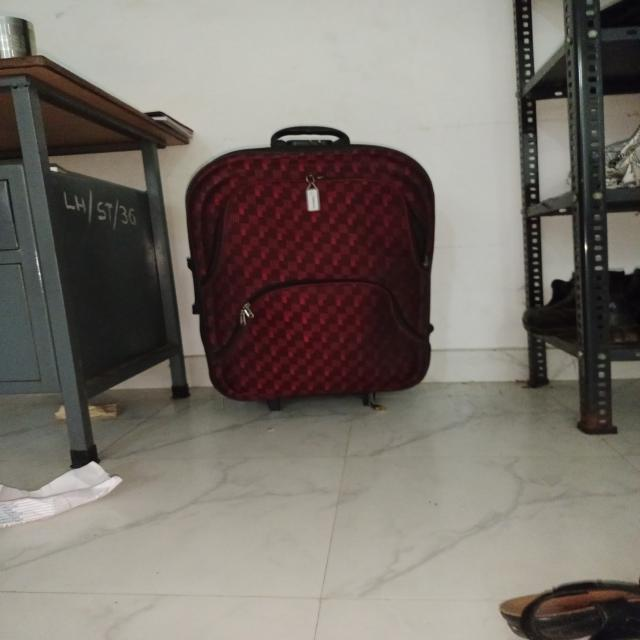suitcaserotation: (182, 122, 438, 415)
